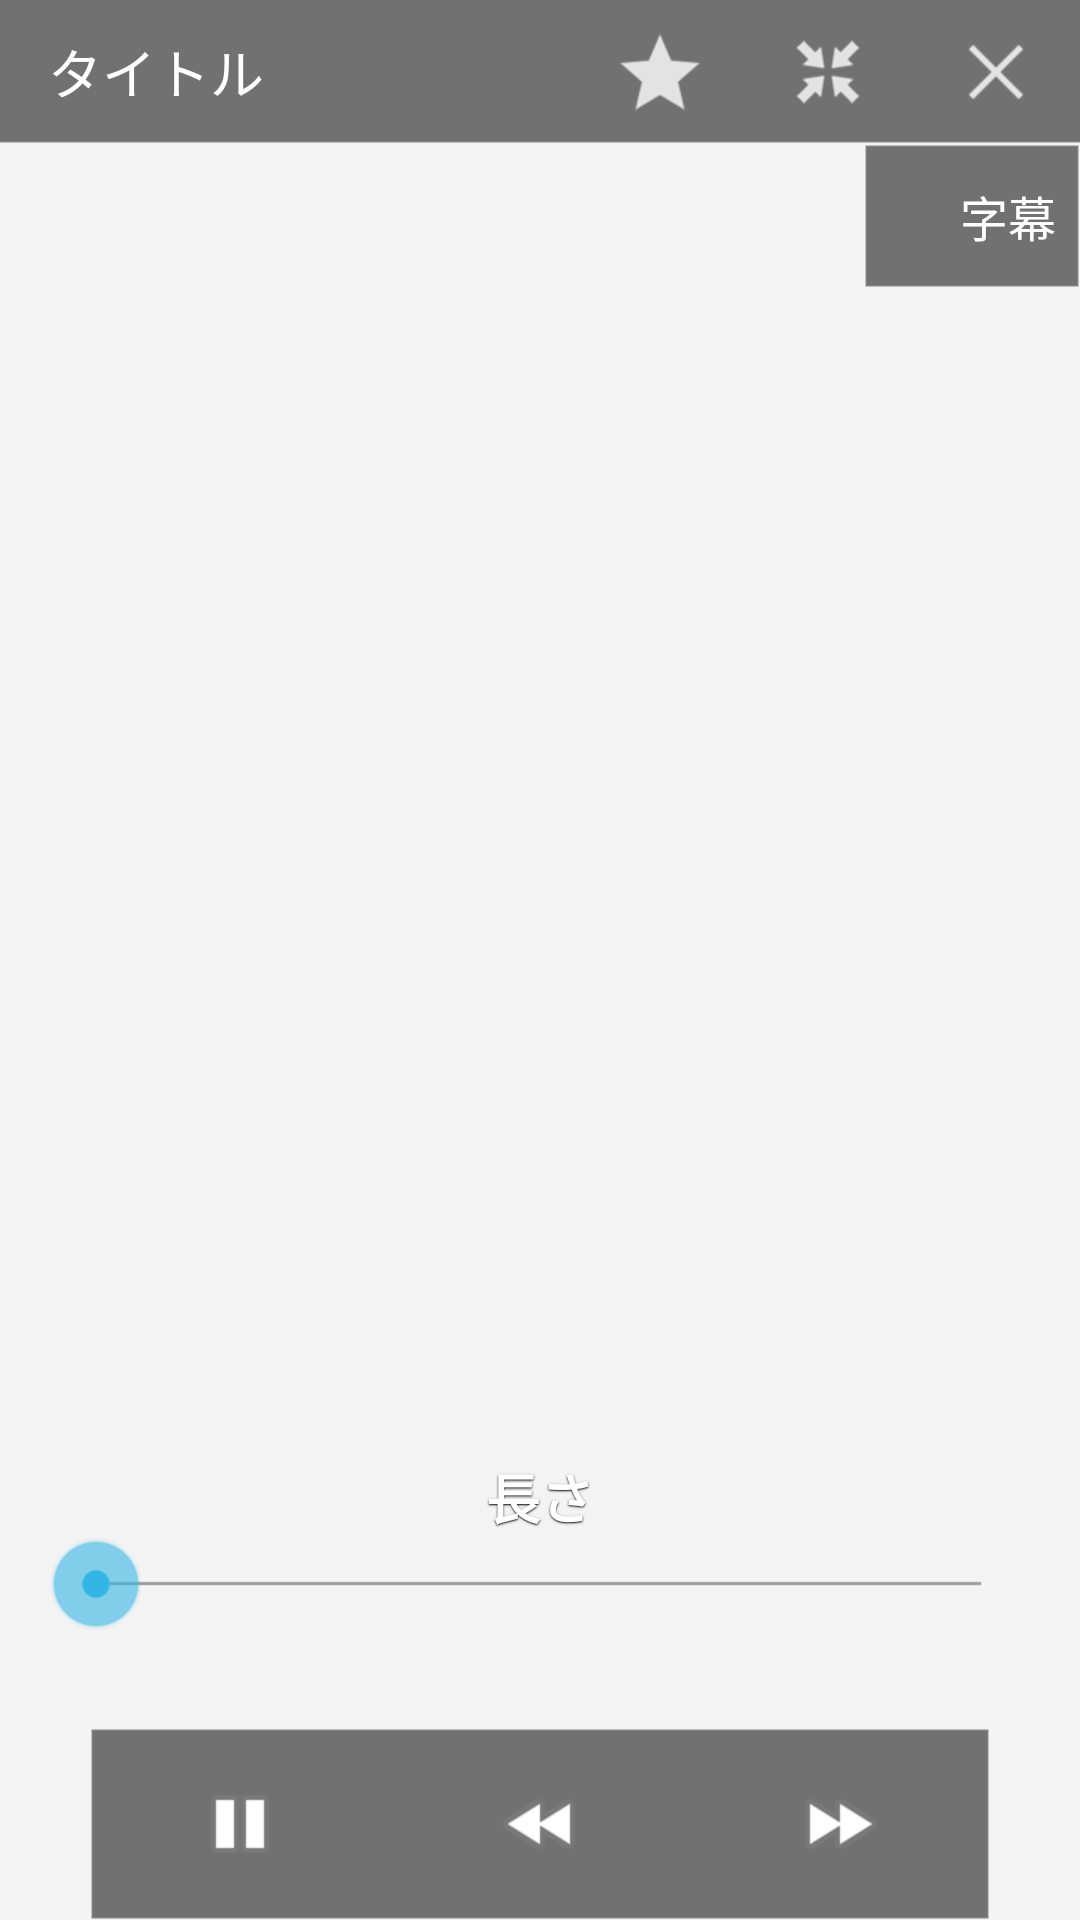

Where icons sit on this 1080*1920 app screen, as (x1, y1, x2, y2):
close: (969, 45, 1023, 99)
return from fullscreen: (796, 40, 859, 104)
お気に入り: (621, 35, 699, 110)
